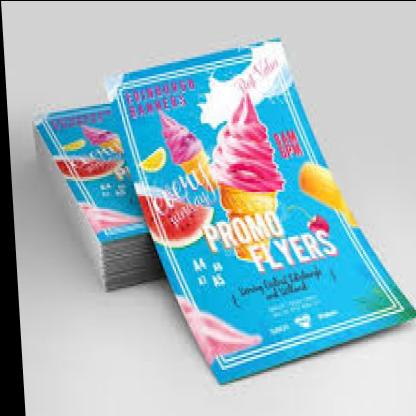Paper: (20, 20, 416, 384)
